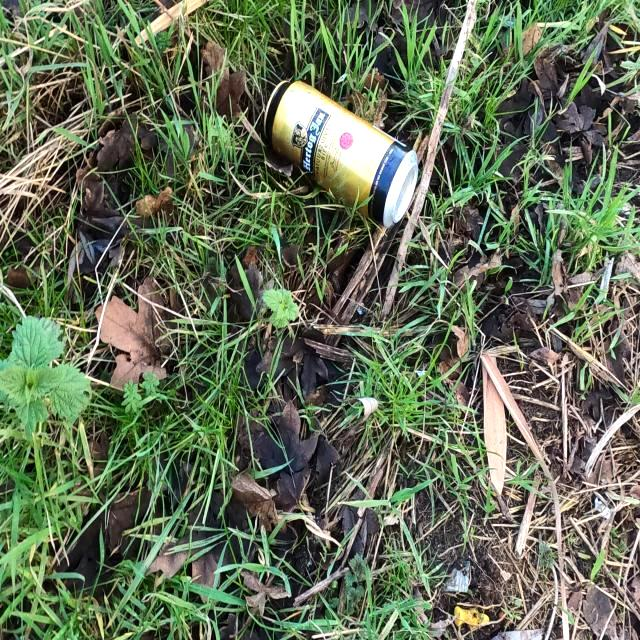Metal: (262, 74, 420, 230)
